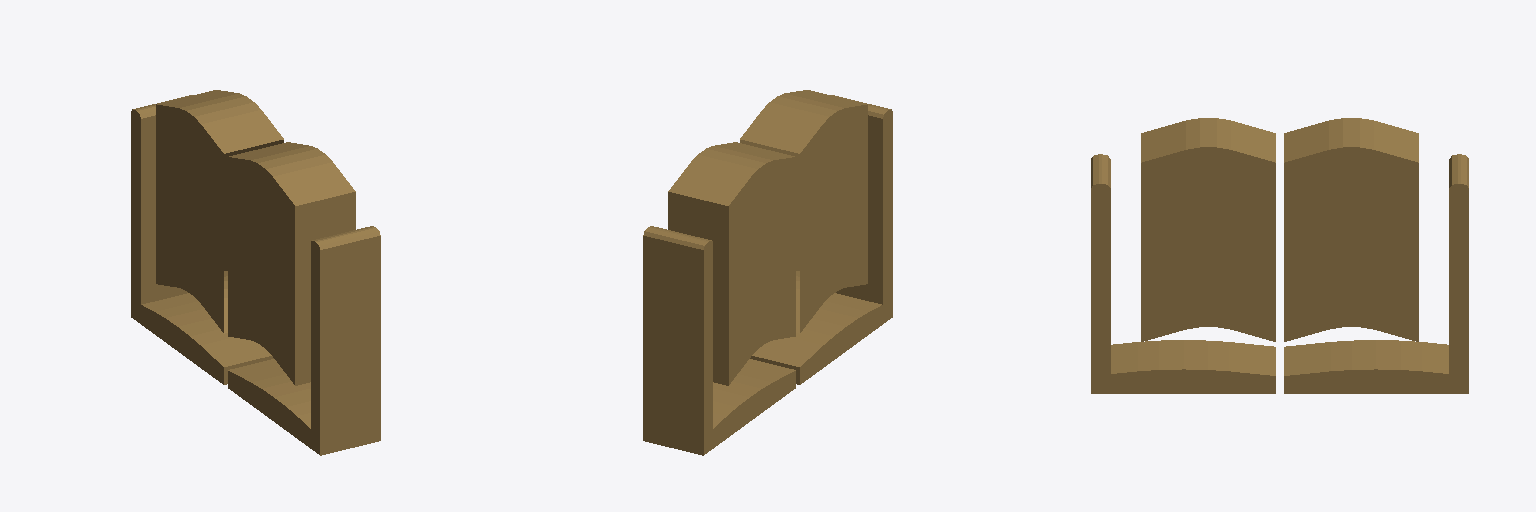
Rendered from icon_library.obj.
The picture shows the model from 3 angles: view 1: azimuth 30°, elevation 25°; view 2: azimuth 150°, elevation 25°; view 3: azimuth 270°, elevation 25°; orthographic projection.
Visible parts, largest first — view 1: Cube.007_Cube.014; view 2: Cube.007_Cube.014; view 3: Cube.007_Cube.014.
Boxes of the visible parts, x1,y1,x2,y2 form: Cube.007_Cube.014: [131, 90, 380, 455]; Cube.007_Cube.014: [643, 90, 892, 455]; Cube.007_Cube.014: [1091, 118, 1468, 393].
Size of the model in its own units: 0.617 by 2.41 by 3.35.